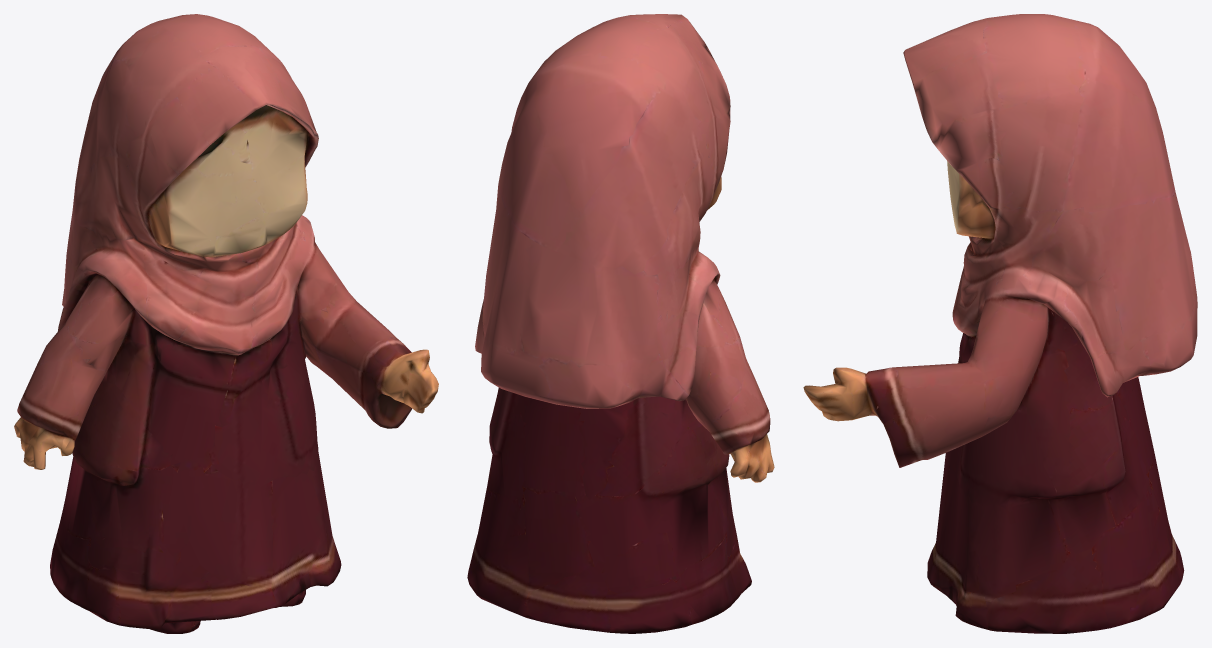
The model's file is hooded-wanderer.glb.
The picture shows the model from 3 angles, left to right: view 1: azimuth 30°, elevation 25°; view 2: azimuth 150°, elevation 25°; view 3: azimuth 270°, elevation 25°; orthographic projection. The views are drawn at different scales.
Bounding box in the file's own units: 1.08 × 1.9 × 1.19.
1 material, 1 textured.
